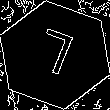L_S: (30, 26, 80, 84)
